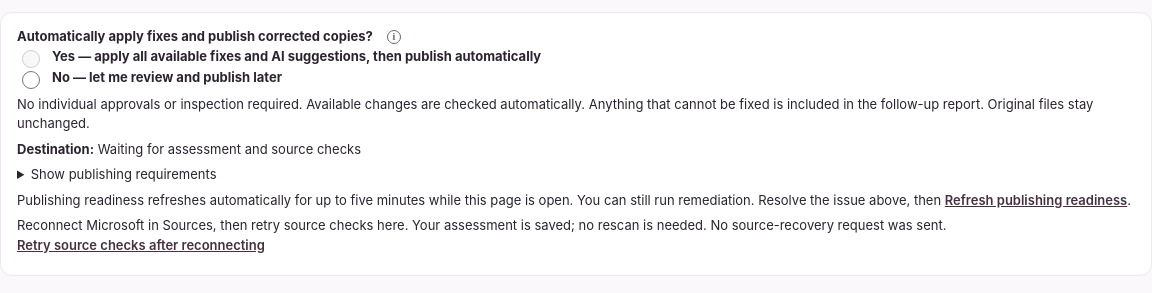
Test: allows an explicit source-check retry after reconnect when no repair request was sent
Click the button "Retry source checks after reconnecting" at point(141, 245), box [17, 236, 265, 255]
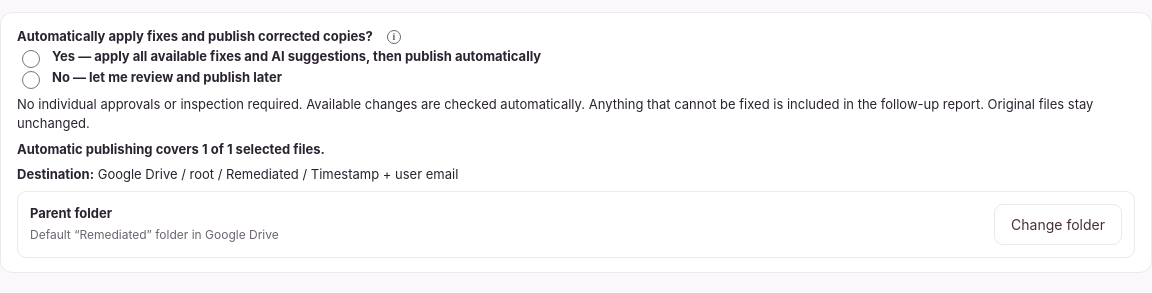
Check: the 1st radio button is not checked, box [22, 50, 40, 68]
Check: the 1st radio button is enabled, box [22, 50, 40, 68]
